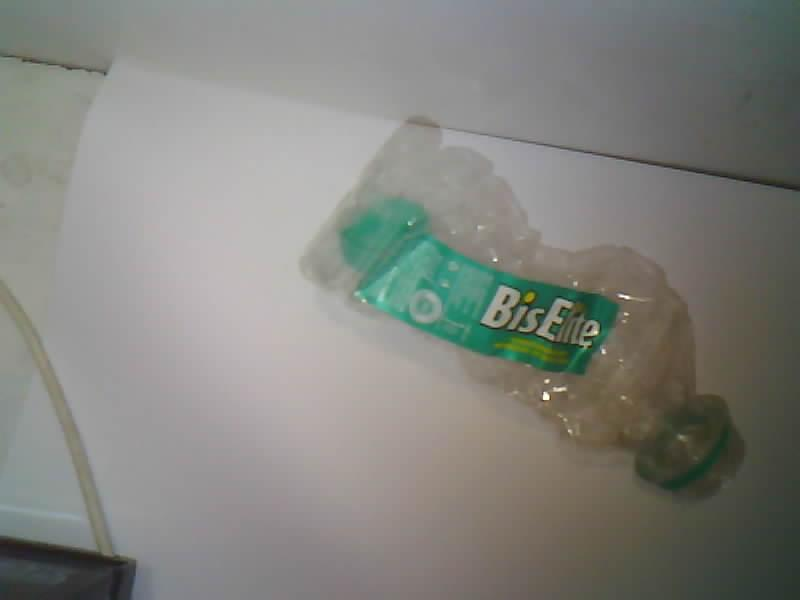non-biodegradable: (302, 124, 737, 493)
